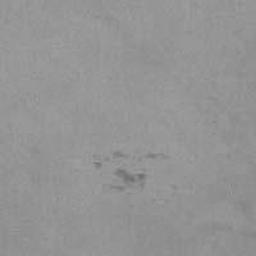Oil spot: (90, 148, 173, 197)
